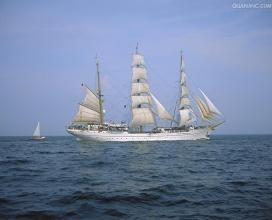fanchuan: (66, 44, 225, 140), (28, 119, 46, 140)
